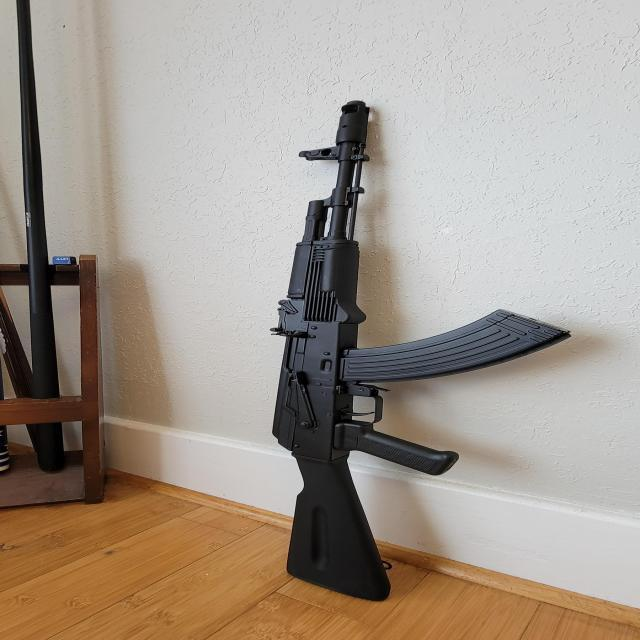weapon: (268, 98, 577, 606)
